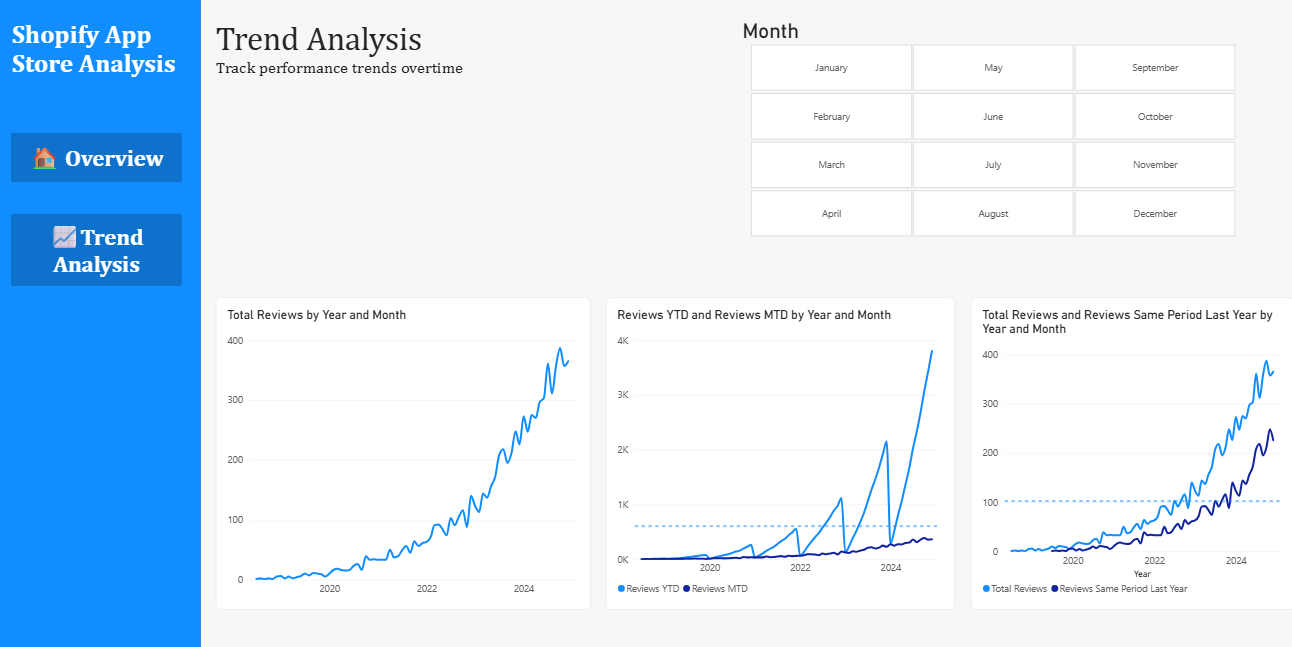

The dashboard page shown, as its layout file describes it:
{"tool":"powerbi","page":{"name":"Trend Analysis","canvas":[1920,1080],"ordinal":1},"visuals":[{"type":"lineChart","fields":{"Category":["dim_date.Date.Variation.Date Hierarchy.Year","dim_date.Date.Variation.Date Hierarchy.Month"],"Y":["reviews.Total Reviews"]},"box":[329.4,452.8,552.2,460.1],"z":0},{"type":"lineChart","fields":{"Category":["dim_date.Date.Variation.Date Hierarchy.Year","dim_date.Date.Variation.Date Hierarchy.Month"],"Y":["reviews.Total Reviews","reviews.Reviews Same Period Last Year"]},"box":[1441.1,452.8,478.5,460.1],"z":1000},{"type":"lineChart","fields":{"Category":["dim_date.Date.Variation.Date Hierarchy.Year","dim_date.Date.Variation.Date Hierarchy.Month"],"Y":["reviews.Reviews YTD","reviews.Reviews MTD"]},"box":[903.7,452.8,513.5,460.1],"z":2000},{"type":"slicer","fields":{"Values":["dim_date.Date.Variation.Date Hierarchy.Month"]},"box":[1096.9,42.3,752.8,322.1],"z":3000},{"type":"shape","box":[0,0,307.4,1080],"z":4000},{"type":"actionButton","box":[27.6,338.7,252.1,62.6],"z":5000},{"type":"textbox","box":[29.4,42.3,252.1,162],"z":6000},{"type":"textbox","box":[329,913,552,167],"z":7000},{"type":"textbox","box":[904,913,513,167],"z":8000},{"type":"textbox","box":[1441,913,479,167],"z":9000},{"type":"textbox","box":[329.4,42.3,552.2,202.5],"z":10000},{"type":"actionButton","box":[27.6,209.8,252.1,73.6],"z":11000},{"type":"actionButton","box":[27.6,329.4,252.1,106.7],"z":12000}]}

Visuals, with their boxes on the page's 1920x1080 design canvas (x1, y1, x2, y2). These are canvas units, not pixel positions in the 1292x647 screenshot, which may show the page scaled, cropped or inside an application window:
lineChart - dim_date.Date.Variation.Date Hierarchy.Year x dim_date.Date.Variation.Date Hierarchy.Month: bbox=[329, 453, 882, 913]
lineChart - dim_date.Date.Variation.Date Hierarchy.Year x dim_date.Date.Variation.Date Hierarchy.Month: bbox=[1441, 453, 1920, 913]
lineChart - dim_date.Date.Variation.Date Hierarchy.Year x dim_date.Date.Variation.Date Hierarchy.Month: bbox=[904, 453, 1417, 913]
slicer - dim_date.Date.Variation.Date Hierarchy.Month: bbox=[1097, 42, 1850, 364]
shape: bbox=[0, 0, 307, 1080]
actionButton: bbox=[28, 339, 280, 401]
textbox: bbox=[29, 42, 282, 204]
textbox: bbox=[329, 913, 881, 1080]
textbox: bbox=[904, 913, 1417, 1080]
textbox: bbox=[1441, 913, 1920, 1080]
textbox: bbox=[329, 42, 882, 245]
actionButton: bbox=[28, 210, 280, 283]
actionButton: bbox=[28, 329, 280, 436]
